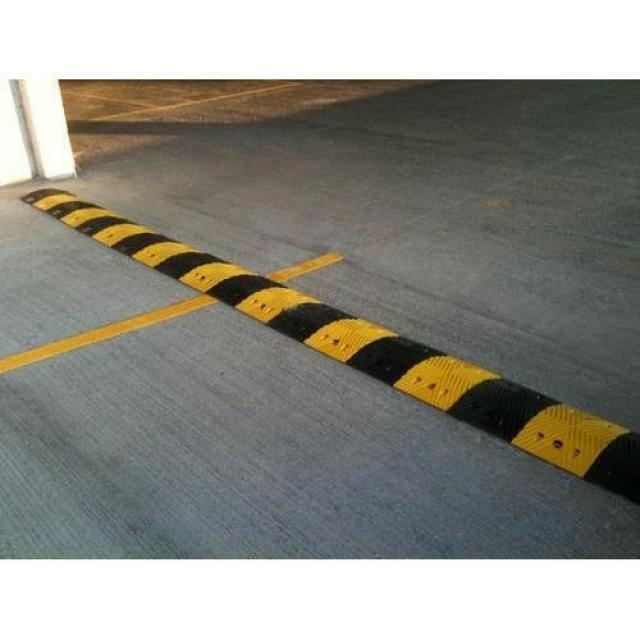Marked Bump: (37, 175, 588, 485)
